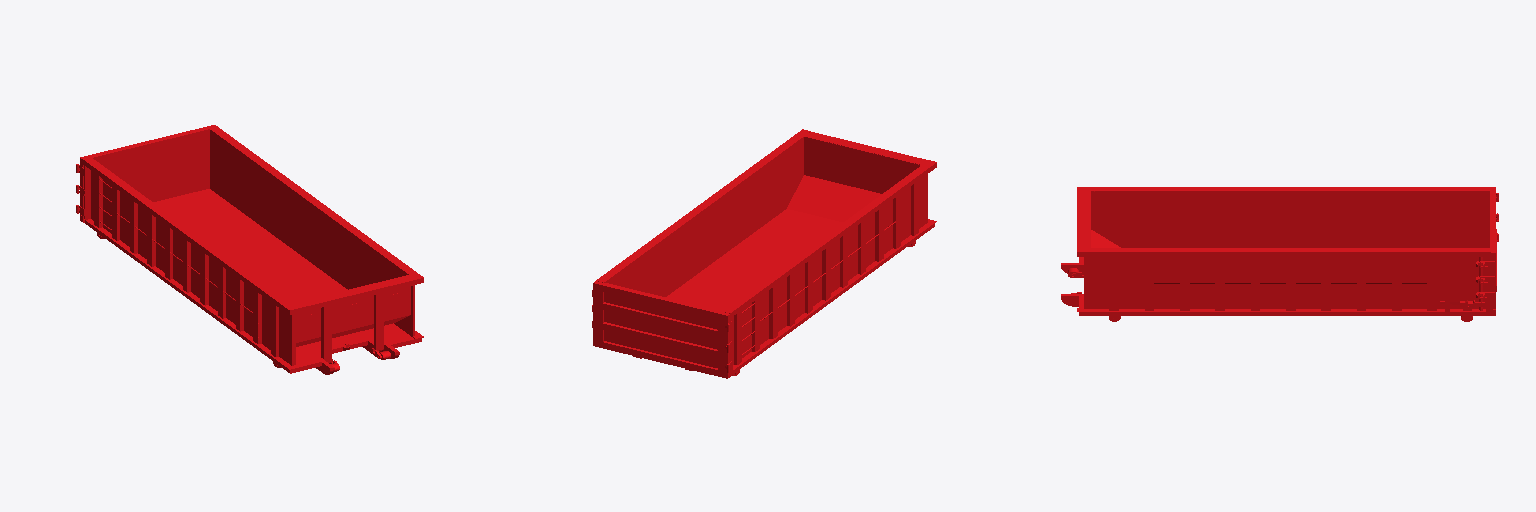
Rendered from 20YardRecDumpster.obj.
3 renders of one model, left to right at view 1: azimuth 30°, elevation 25°; view 2: azimuth 150°, elevation 25°; view 3: azimuth 270°, elevation 25°, orthographic.
Parts seen in each view (by area): view 1: Object.2; view 2: Object.2; view 3: Object.2.
Boxes of the visible parts, x1,y1,x2,y2 form: Object.2: [76, 125, 423, 374]; Object.2: [592, 129, 936, 378]; Object.2: [1061, 187, 1498, 321].
Bounding box in the file's own units: 93 × 45.32 × 249.